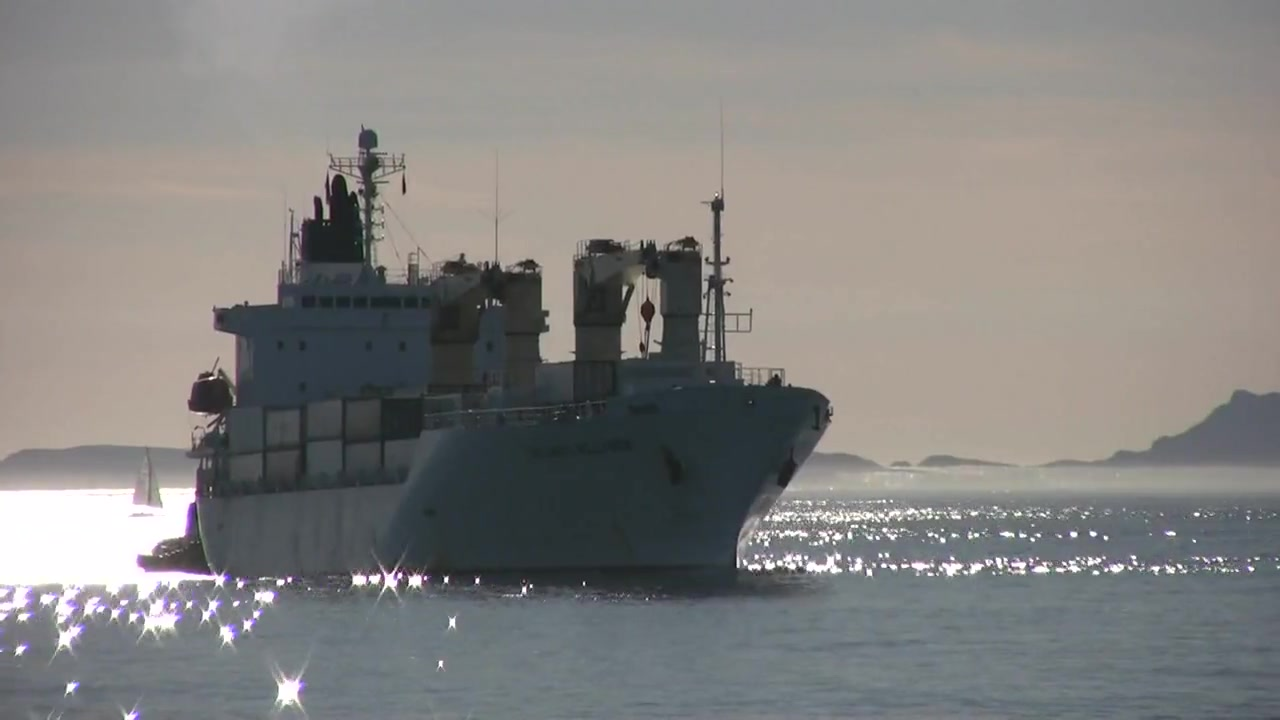boat: (184, 100, 839, 596), (136, 495, 217, 582), (131, 442, 170, 513)
